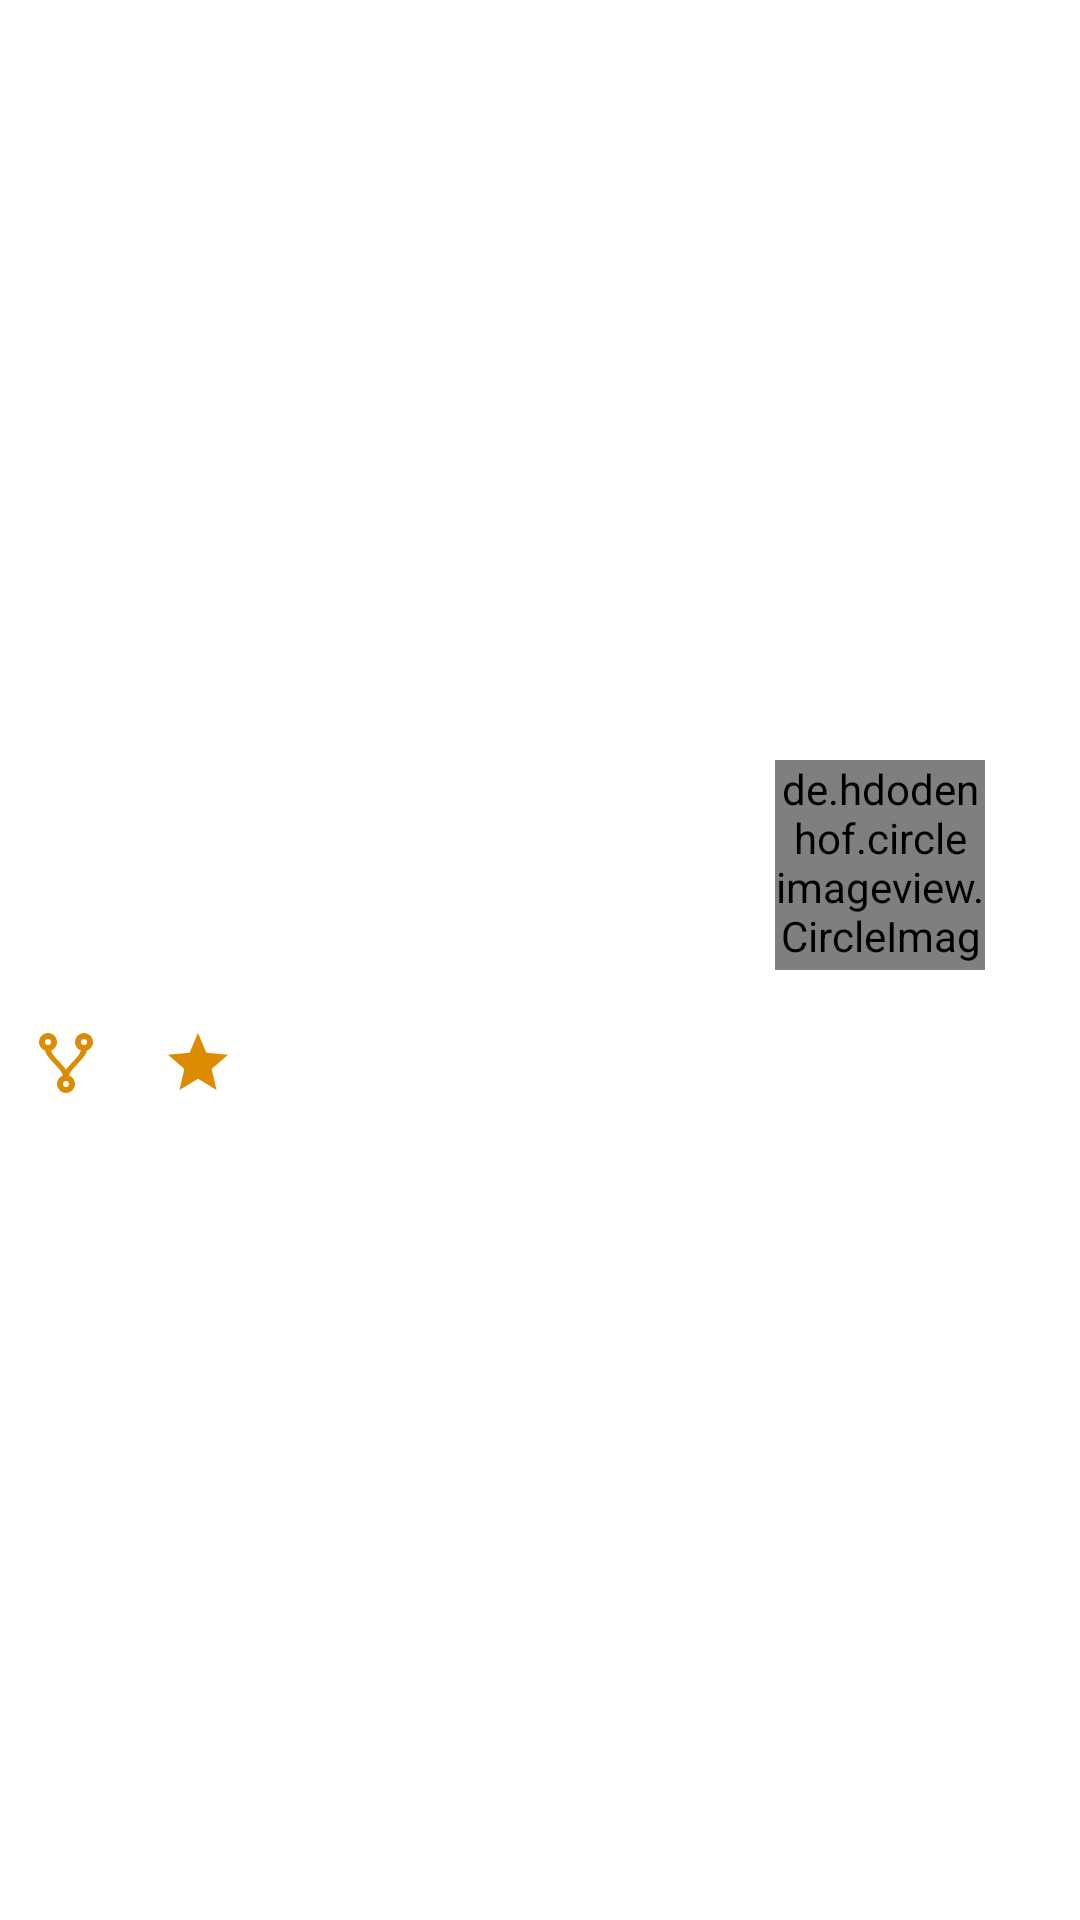

Point at icon controls on the screen. Image size 1080*1920, points as [x,y].
source fork: [66,1063]
star: [198,1061]
